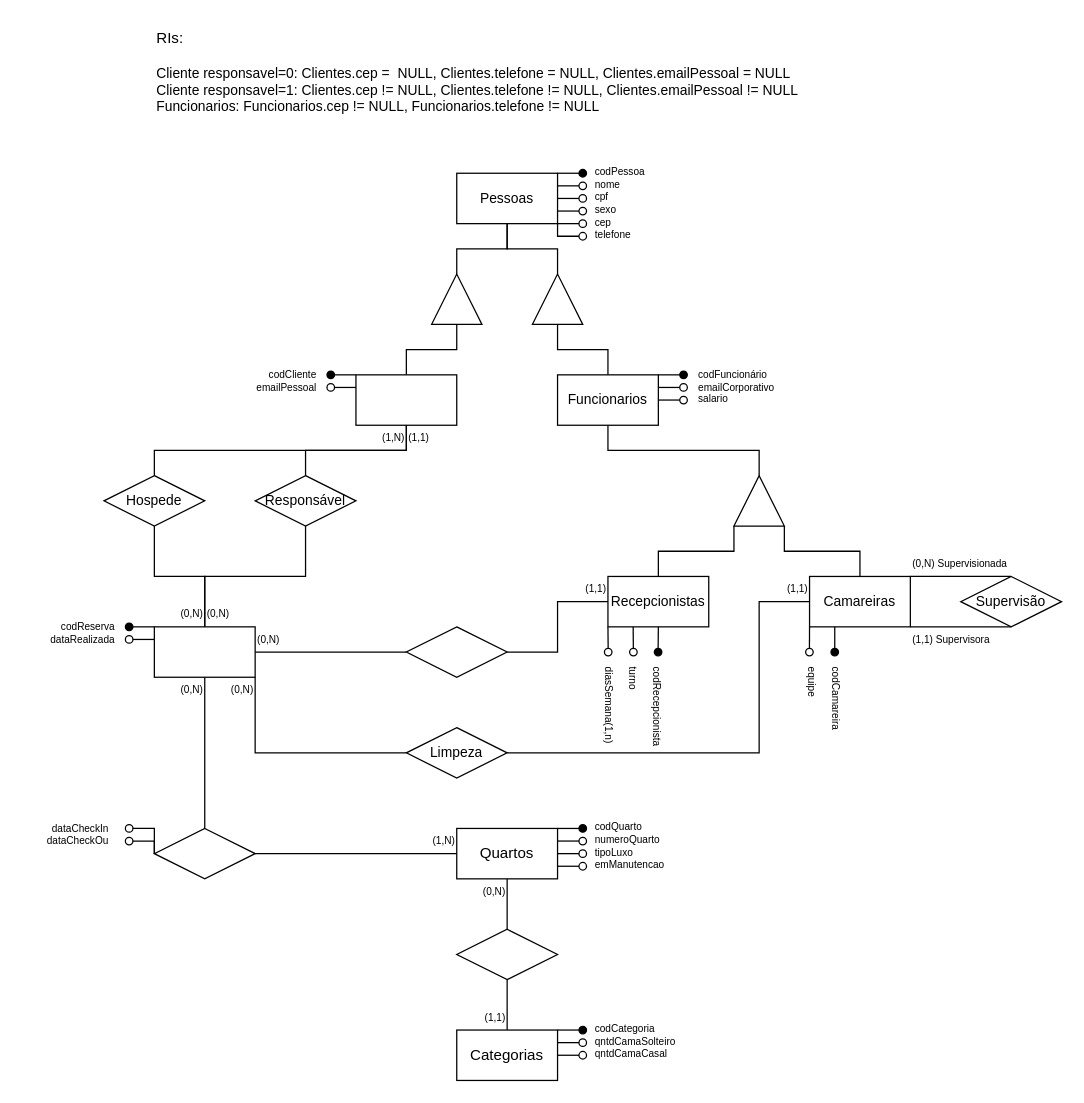
Image size: 1084x1103. Some labels were removed from this diagram. The shapes that lost their labels are listed below. From the top down, each one's centre as x and y in pixels, then its label:
At [406,399]: "Clientes".
At [204,651]: "Reserva".
At [456,651]: "Realizou".
At [204,853]: "Alocado".
At [506,954]: "Pertence".
